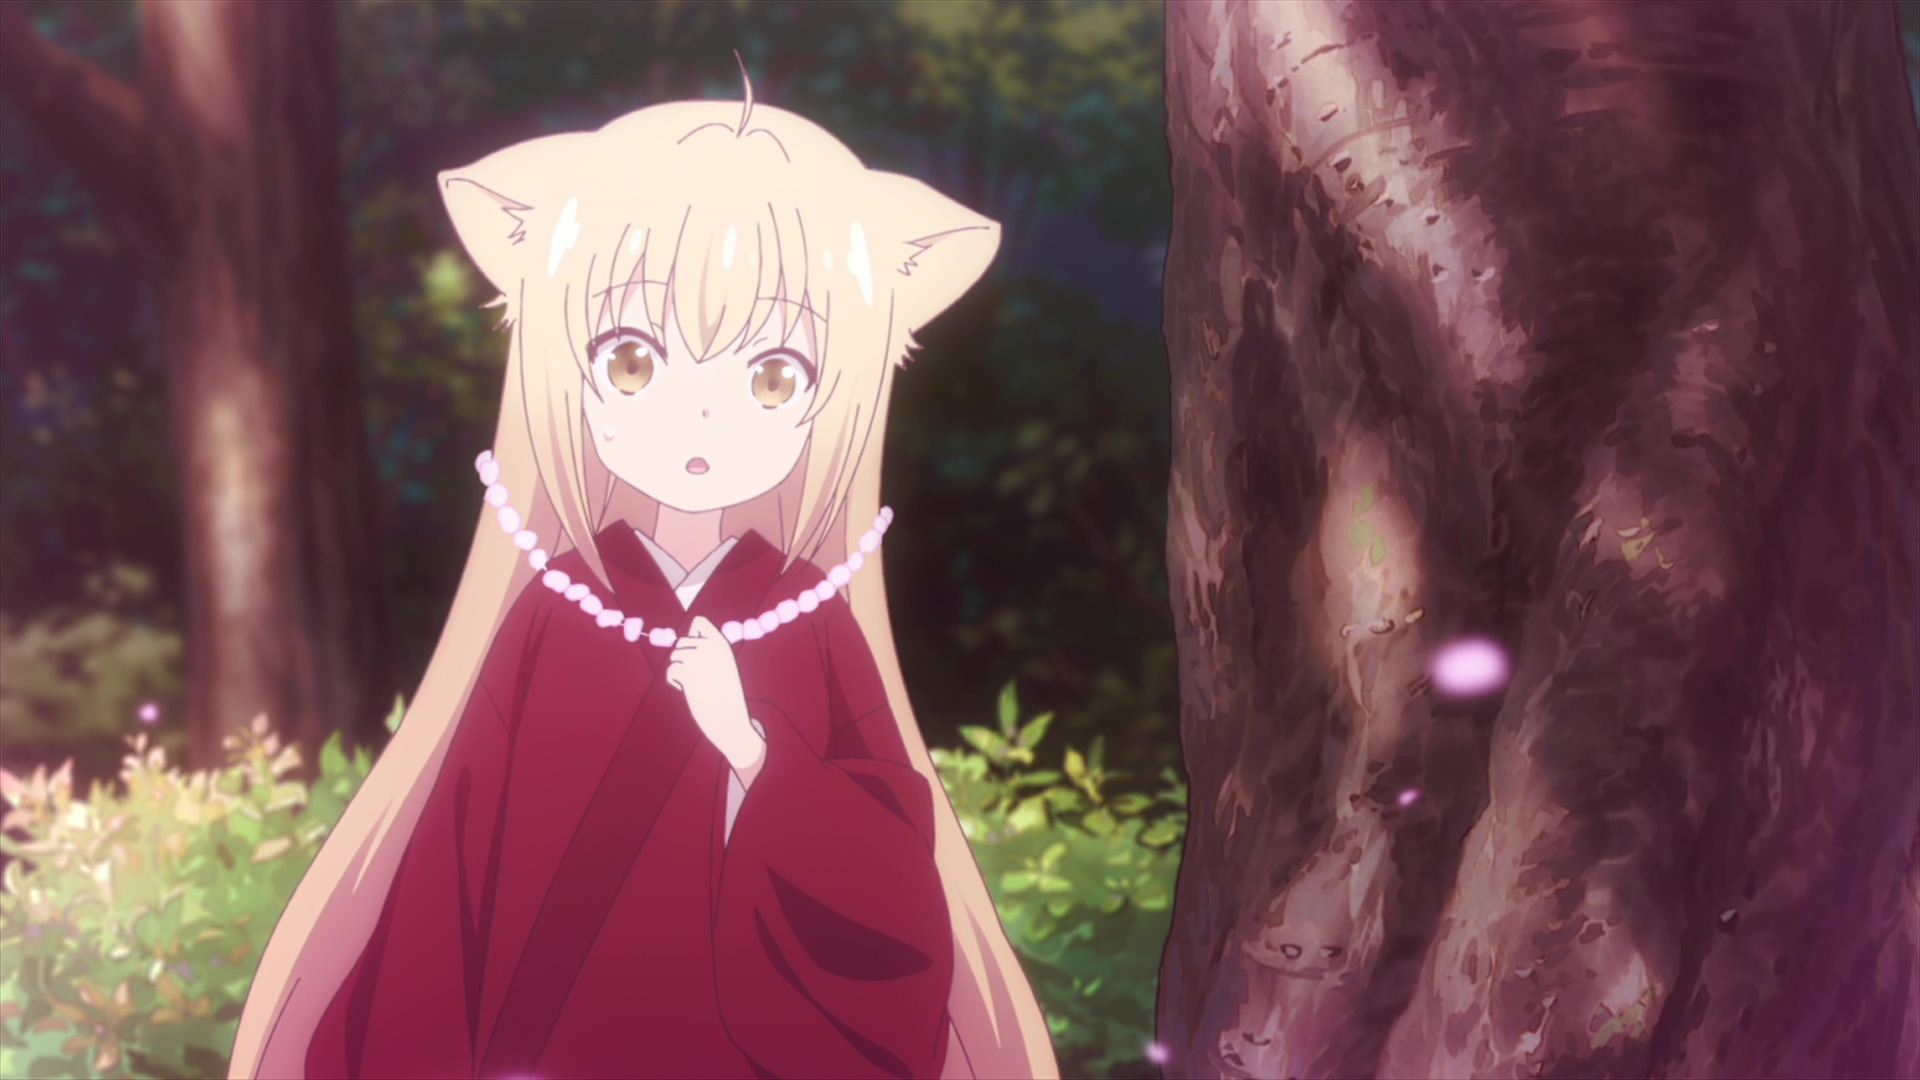柚: (228, 51, 1062, 1080)
